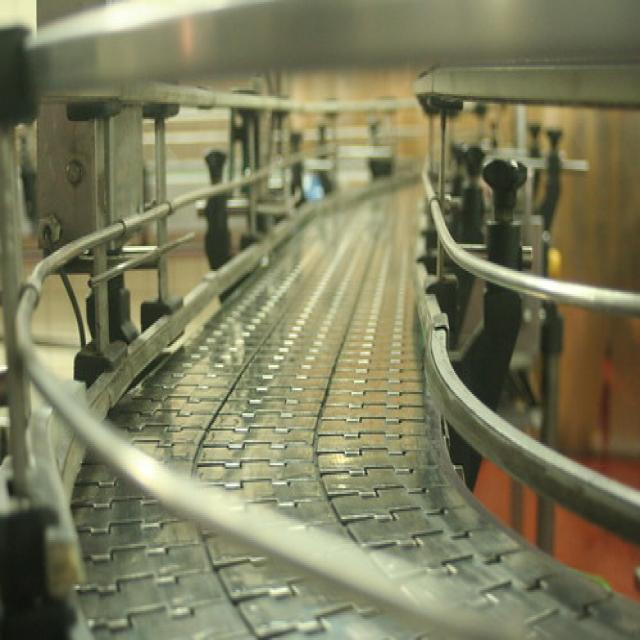Convoyeur: (62, 148, 631, 640)
